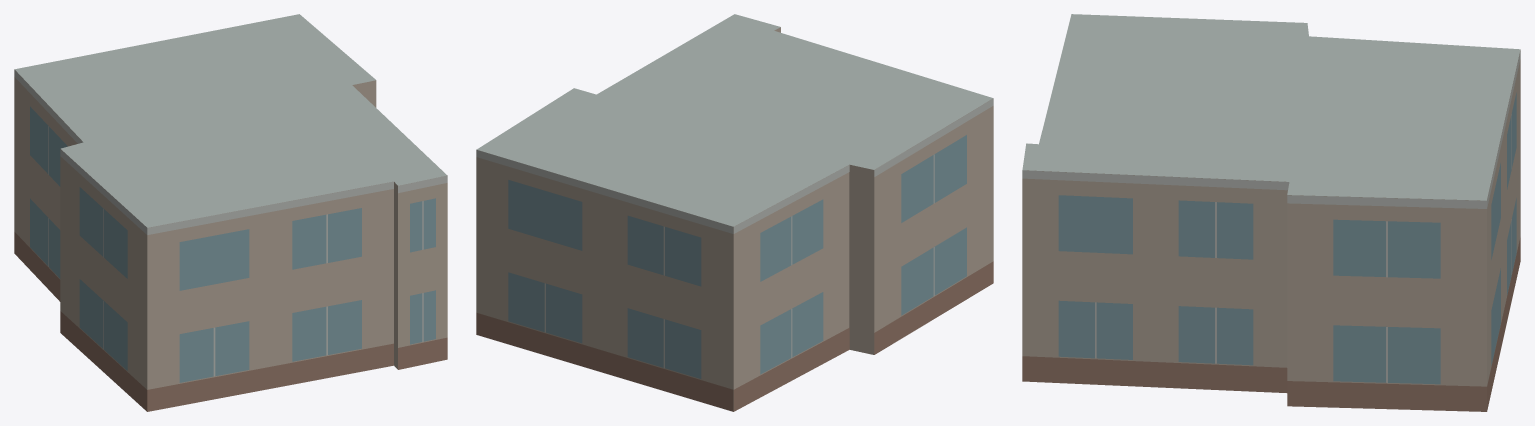
The model's file is survey-upis-32501425.glb.
The picture shows the model from 3 angles, left to right: view 1: azimuth 30°, elevation 25°; view 2: azimuth 150°, elevation 25°; view 3: azimuth 270°, elevation 25°; orthographic projection. The views are drawn at different scales.
Parts seen in each view (by area): view 1: survey-upis-32501425.tmp; view 2: survey-upis-32501425.tmp; view 3: survey-upis-32501425.tmp.
Part boxes in pixels (left/top/right/bottom): survey-upis-32501425.tmp: left=14, top=14, right=447, bottom=411; survey-upis-32501425.tmp: left=476, top=14, right=993, bottom=411; survey-upis-32501425.tmp: left=1022, top=14, right=1520, bottom=411.
Size of the model in its own units: 11.57 by 6.1 by 13.05.
